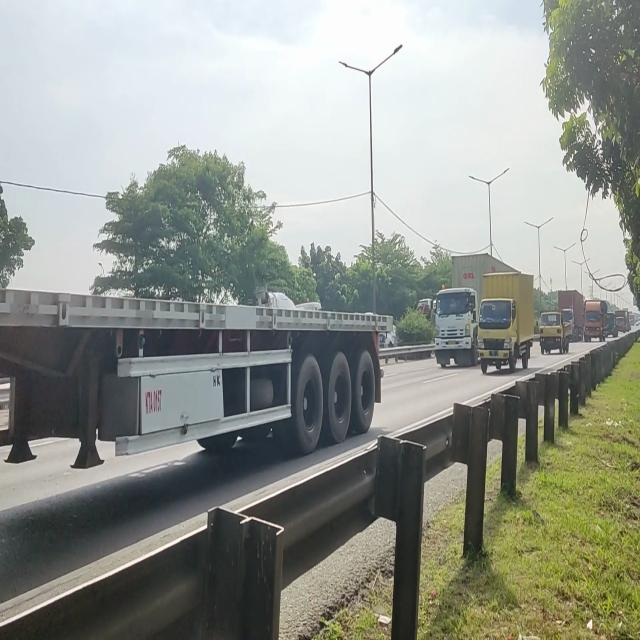Golongan II: (475, 268, 535, 377)
